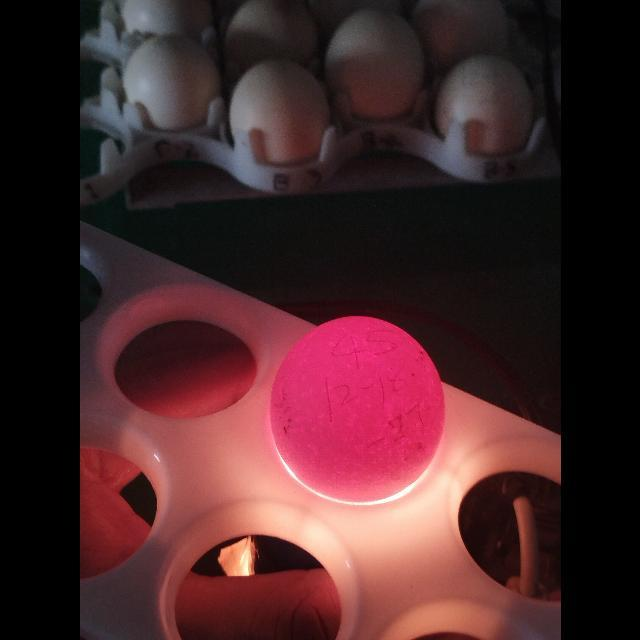Infertile: (266, 313, 448, 507)
